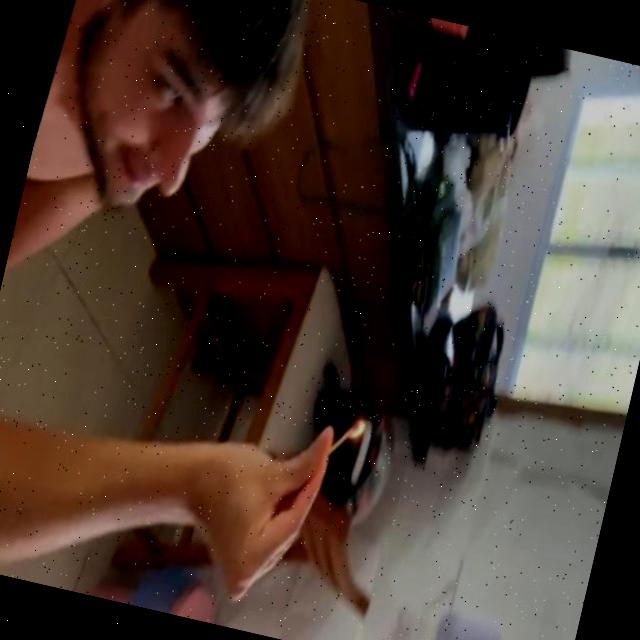fire: (339, 416, 365, 449)
